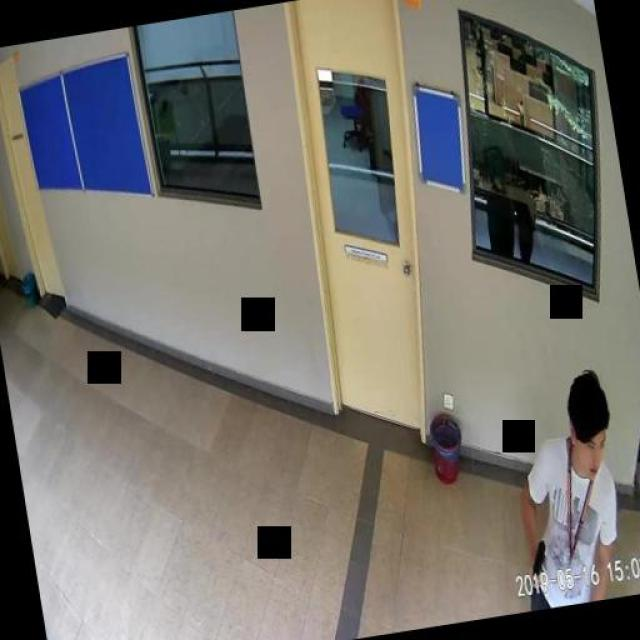gun: (525, 537, 547, 575)
